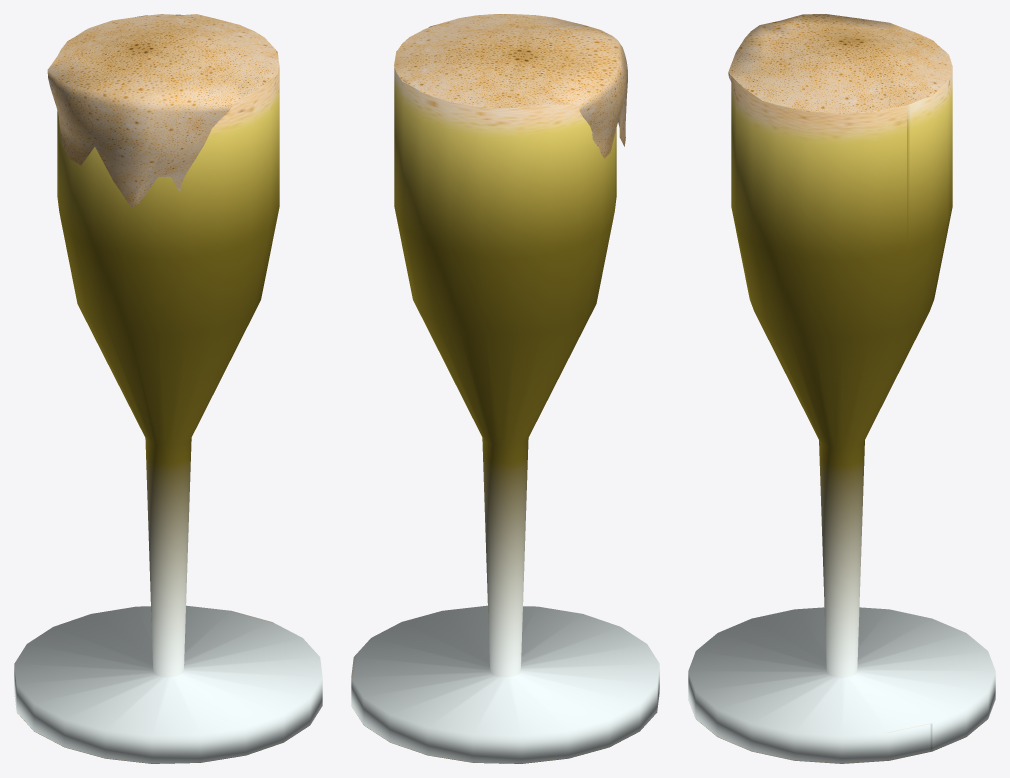
File: Wine.fbx
3 views of the same model, side by side, from view 1: azimuth 30°, elevation 25°; view 2: azimuth 150°, elevation 25°; view 3: azimuth 270°, elevation 25° (orthographic).
Visible parts, largest first — view 1: WineGlass.003; view 2: WineGlass.003; view 3: WineGlass.003.
Part boxes in pixels (box(x1,y1,x2,y2)): WineGlass.003: box(14, 14, 322, 763); WineGlass.003: box(351, 14, 659, 763); WineGlass.003: box(688, 14, 995, 763).
Bounding box in the file's own units: 60 × 60 × 139.
